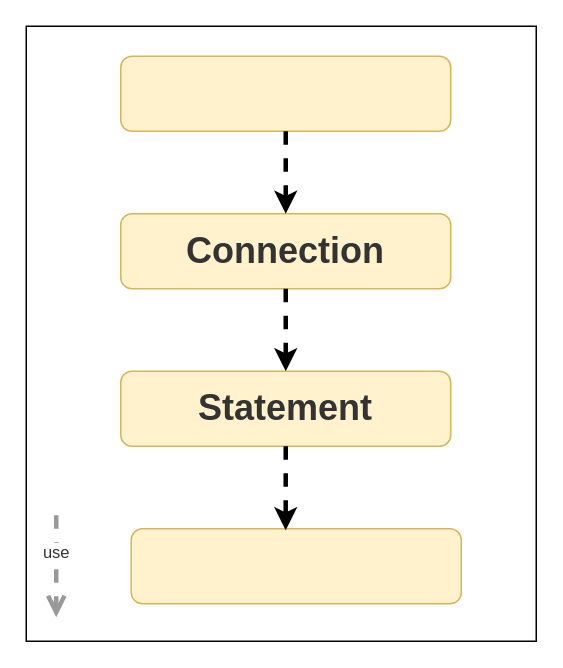
This 563x668 diagram has some shape labels left out. Each missing label, with the centre of its shape:
DriverManager: the point at 285,93
ResultSet: the point at 295,565
